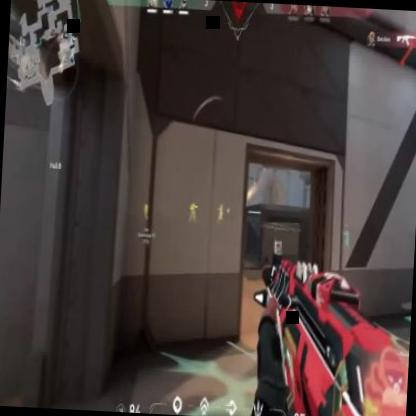enemy: (188, 198, 198, 224), (215, 202, 224, 225), (143, 201, 150, 221)
enemy_head: (219, 202, 223, 208), (192, 199, 196, 204), (144, 201, 146, 206)
